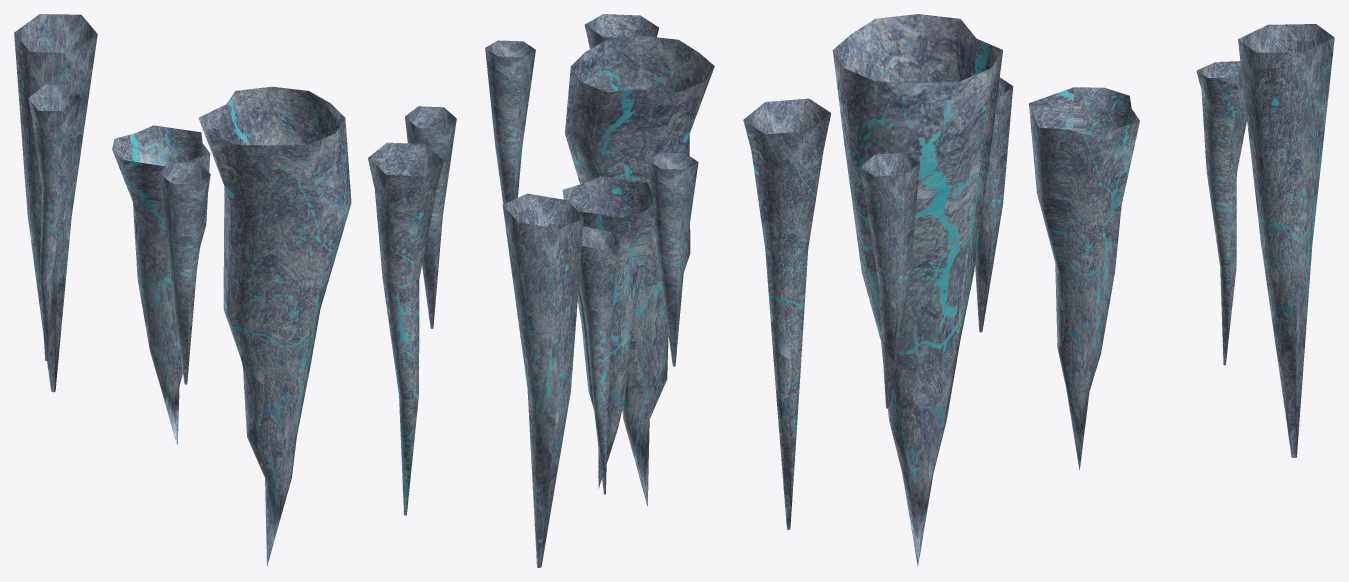
Rendered from icicle_up_05.fbx.
3 renders of one model, left to right at view 1: azimuth 30°, elevation 25°; view 2: azimuth 150°, elevation 25°; view 3: azimuth 270°, elevation 25°, orthographic. The views are drawn at different scales.
Parts seen in each view (by area): view 1: icicle_up_05; view 2: icicle_up_05; view 3: icicle_up_05.
Part boxes in pixels (<box>): icicle_up_05: <box>14,14,456,566</box>; icicle_up_05: <box>485,14,714,567</box>; icicle_up_05: <box>743,14,1334,567</box>.
Bounding box in the file's own units: 14.38 × 22.73 × 23.4.
